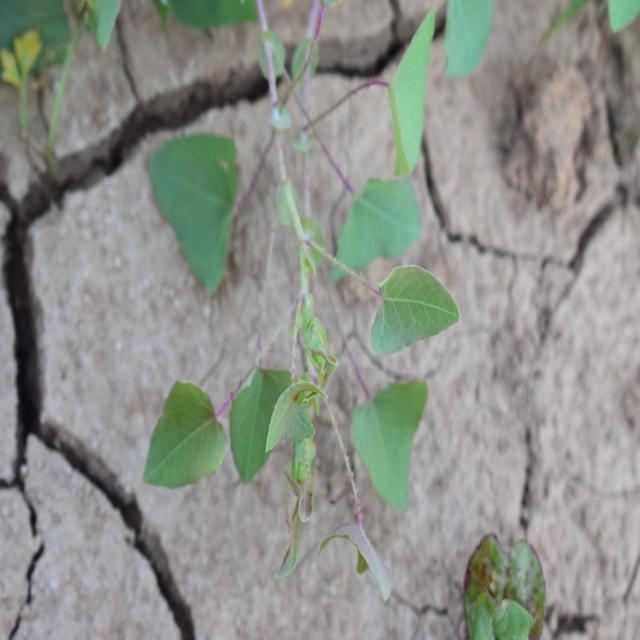Asiatic_Smartweed: (139, 292, 443, 556), (370, 0, 450, 164)
